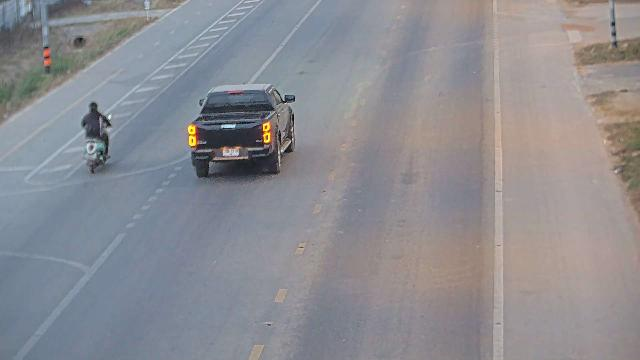motorcycle: (79, 107, 112, 178)
pickup-truck: (186, 82, 296, 178)
